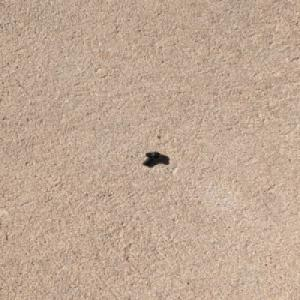BoltWasher: (141, 151, 162, 166)
